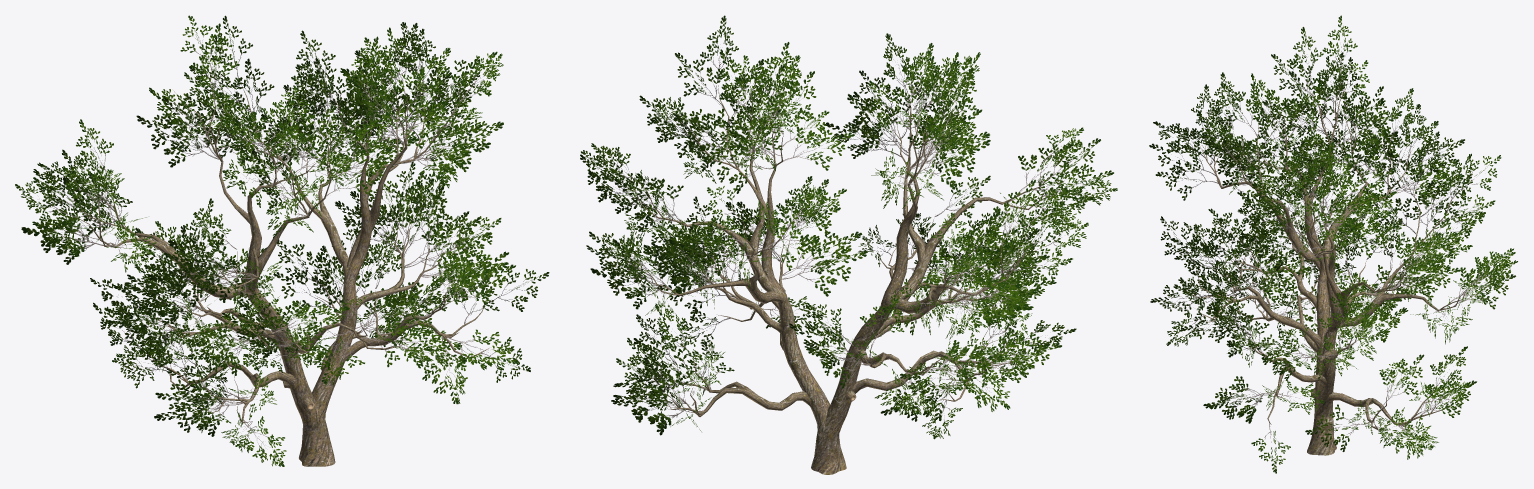
Rendered from Oakfifty.obj.
3 views of the same model, side by side, from view 1: azimuth 30°, elevation 25°; view 2: azimuth 150°, elevation 25°; view 3: azimuth 270°, elevation 25° (orthographic). The views are drawn at different scales.
Parts seen in each view (by area): view 1: oak leaf, mossybark02; view 2: oak leaf, mossybark02; view 3: oak leaf, mossybark02.
Boxes of the visible parts, x1,y1,x2,y2 form: oak leaf: (15,15,549,466); mossybark02: (70,64,489,466); oak leaf: (580,15,1117,439); mossybark02: (629,83,1059,474); oak leaf: (1149,15,1517,473); mossybark02: (1182,77,1467,455).
Bounding box in the file's own units: 1066 × 958 × 833.
Materials: 3 (3 with a texture image).
